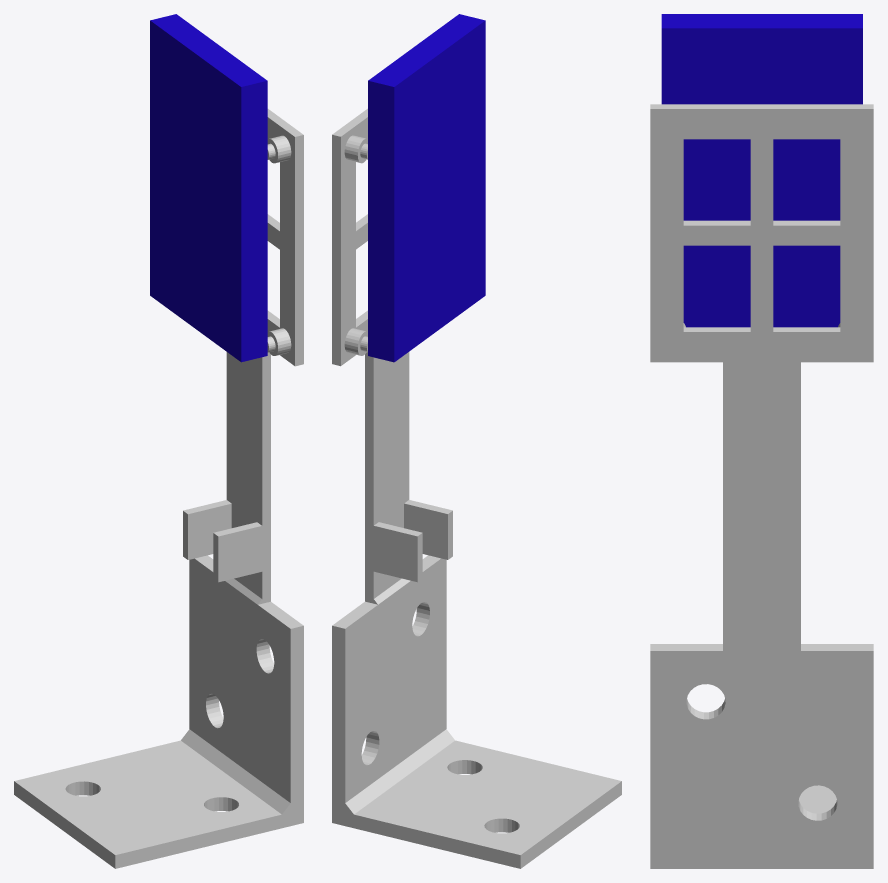
Rendered from anchor_stand.dae.
3 views of the same model, side by side, from view 1: azimuth 30°, elevation 25°; view 2: azimuth 150°, elevation 25°; view 3: azimuth 270°, elevation 25° (orthographic). The views are drawn at different scales.
Visible parts, largest first — view 1: Anchor_Stand, Cube; view 2: Anchor_Stand, Cube; view 3: Anchor_Stand, Cube.
Part boxes in pixels (x1,y1,x2,y2): Anchor_Stand: (14,109,303,868); Cube: (150,14,267,362); Anchor_Stand: (332,108,621,868); Cube: (368,14,485,362); Anchor_Stand: (650,104,873,868); Cube: (661,14,862,327).
Size of the model in its own units: 0.043 by 0.04 by 0.1626.
